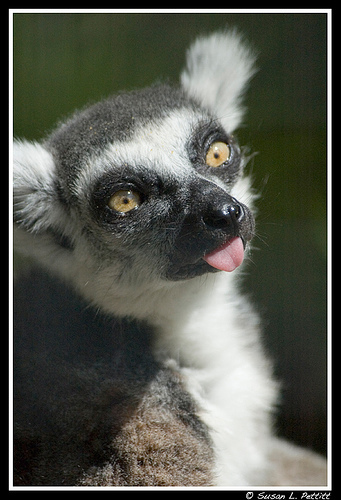cat: (12, 26, 322, 482)
